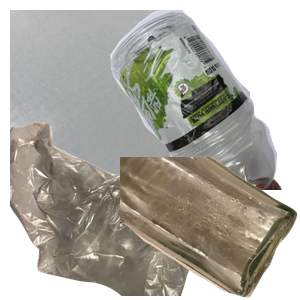cardboard: (10, 10, 250, 190)
glass: (120, 157, 300, 300)
plastic: (73, 10, 300, 190)
trash: (10, 120, 231, 300)
